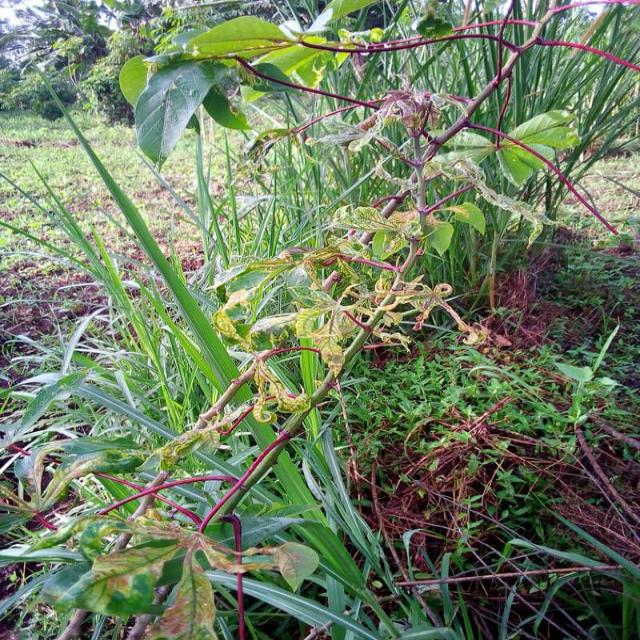cassava leaf: (119, 12, 354, 168), (120, 50, 227, 169), (496, 108, 582, 186)
